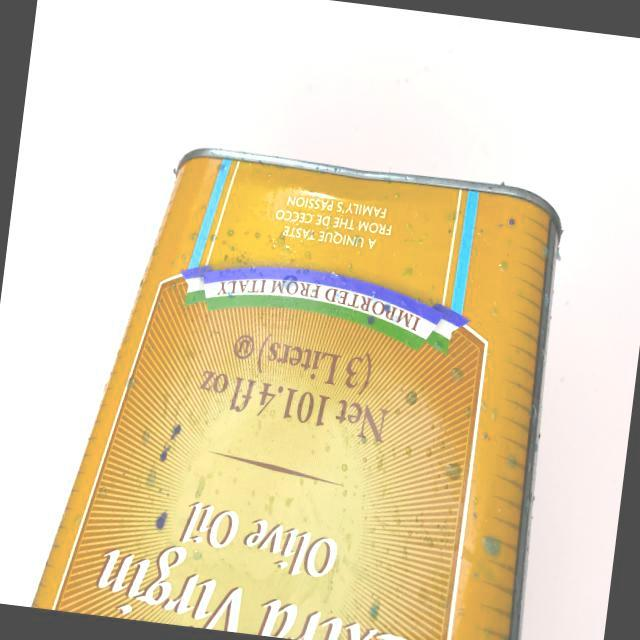metal: (17, 63, 612, 640)
